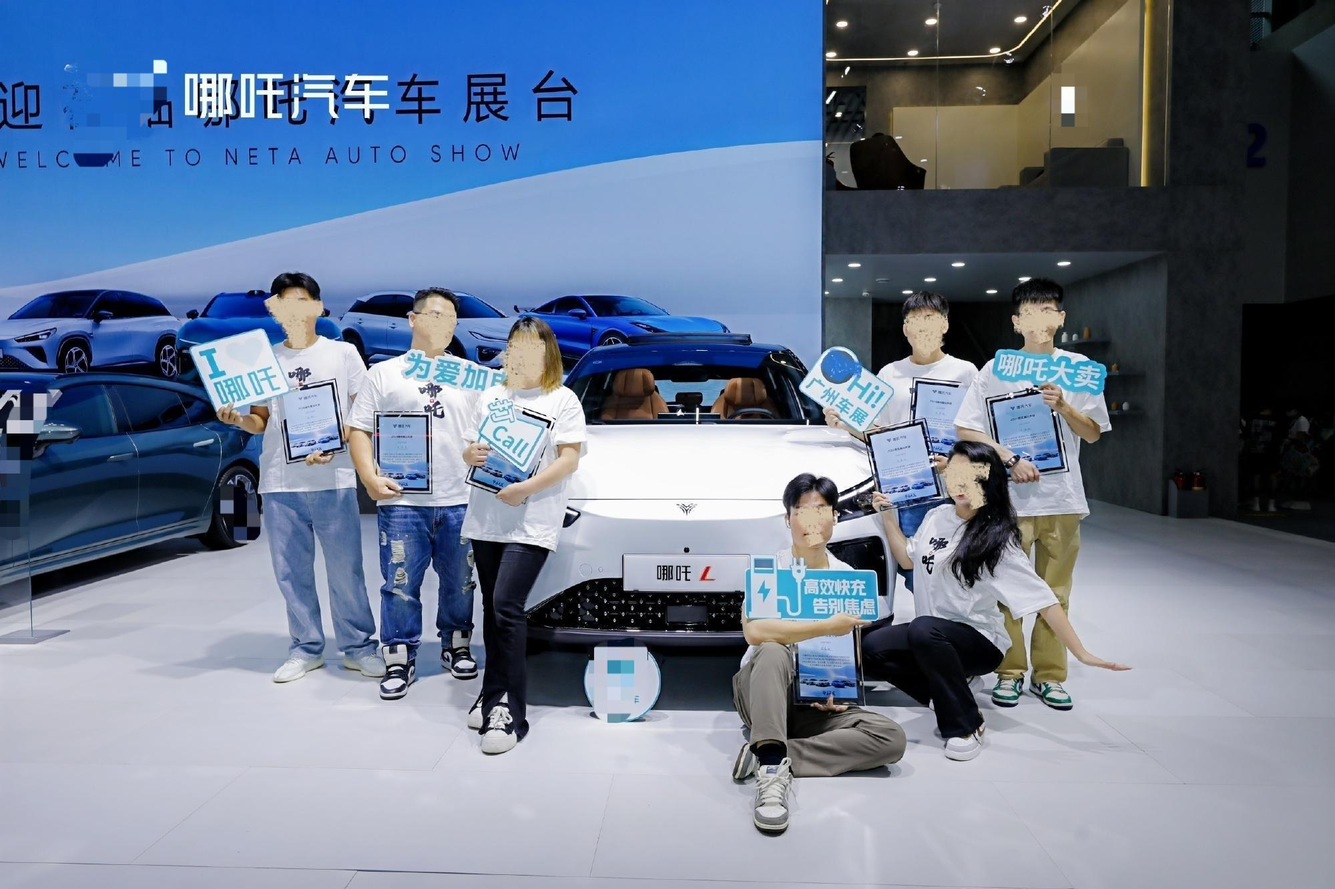NETA: (675, 502, 700, 518)
